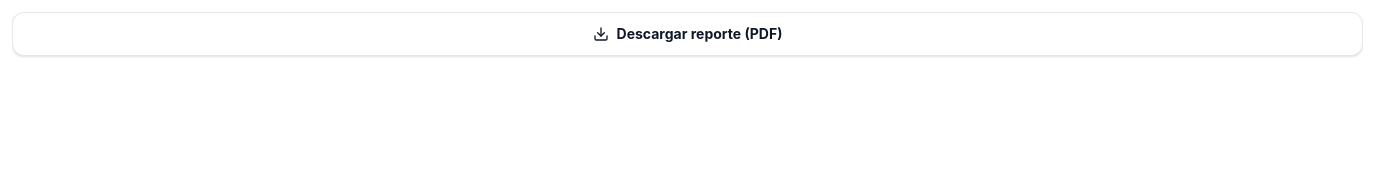
Test: WeeklyReportDownload › Escenario Generador caído: con 503 avisa y el botón vuelve a estar disponible
The image size is (1378, 172).
Click the button "Descargar reporte (PDF)" at coordinates (688, 34), box [12, 12, 1363, 56]
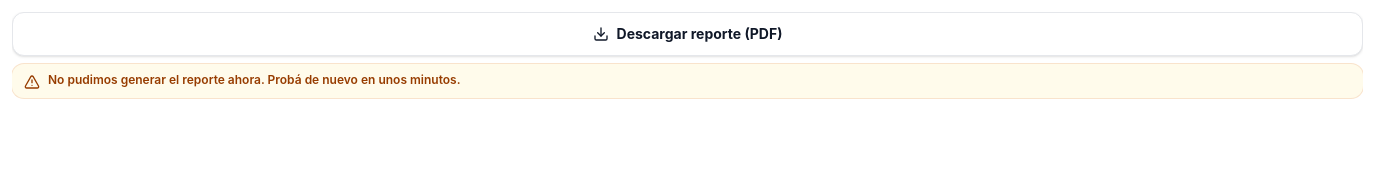
Now the message reads "No pudimos generar el reporte ahora. Probá de nuevo en unos minutos.", box [48, 72, 460, 87]
